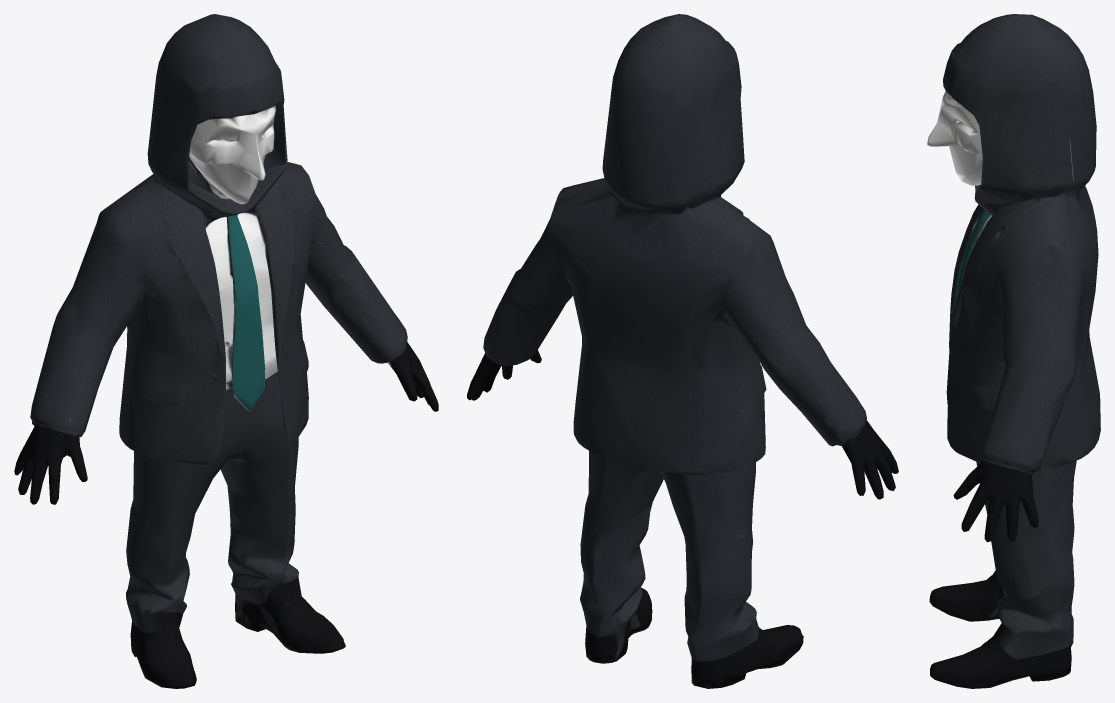
The model's file is pilot-player-refine_glb.glb.
The picture shows the model from 3 angles, left to right: view 1: azimuth 30°, elevation 25°; view 2: azimuth 150°, elevation 25°; view 3: azimuth 270°, elevation 25°; orthographic projection.
Bounding box in the file's own units: 1.28 × 1.9 × 0.4735.
1 material, 1 textured.
